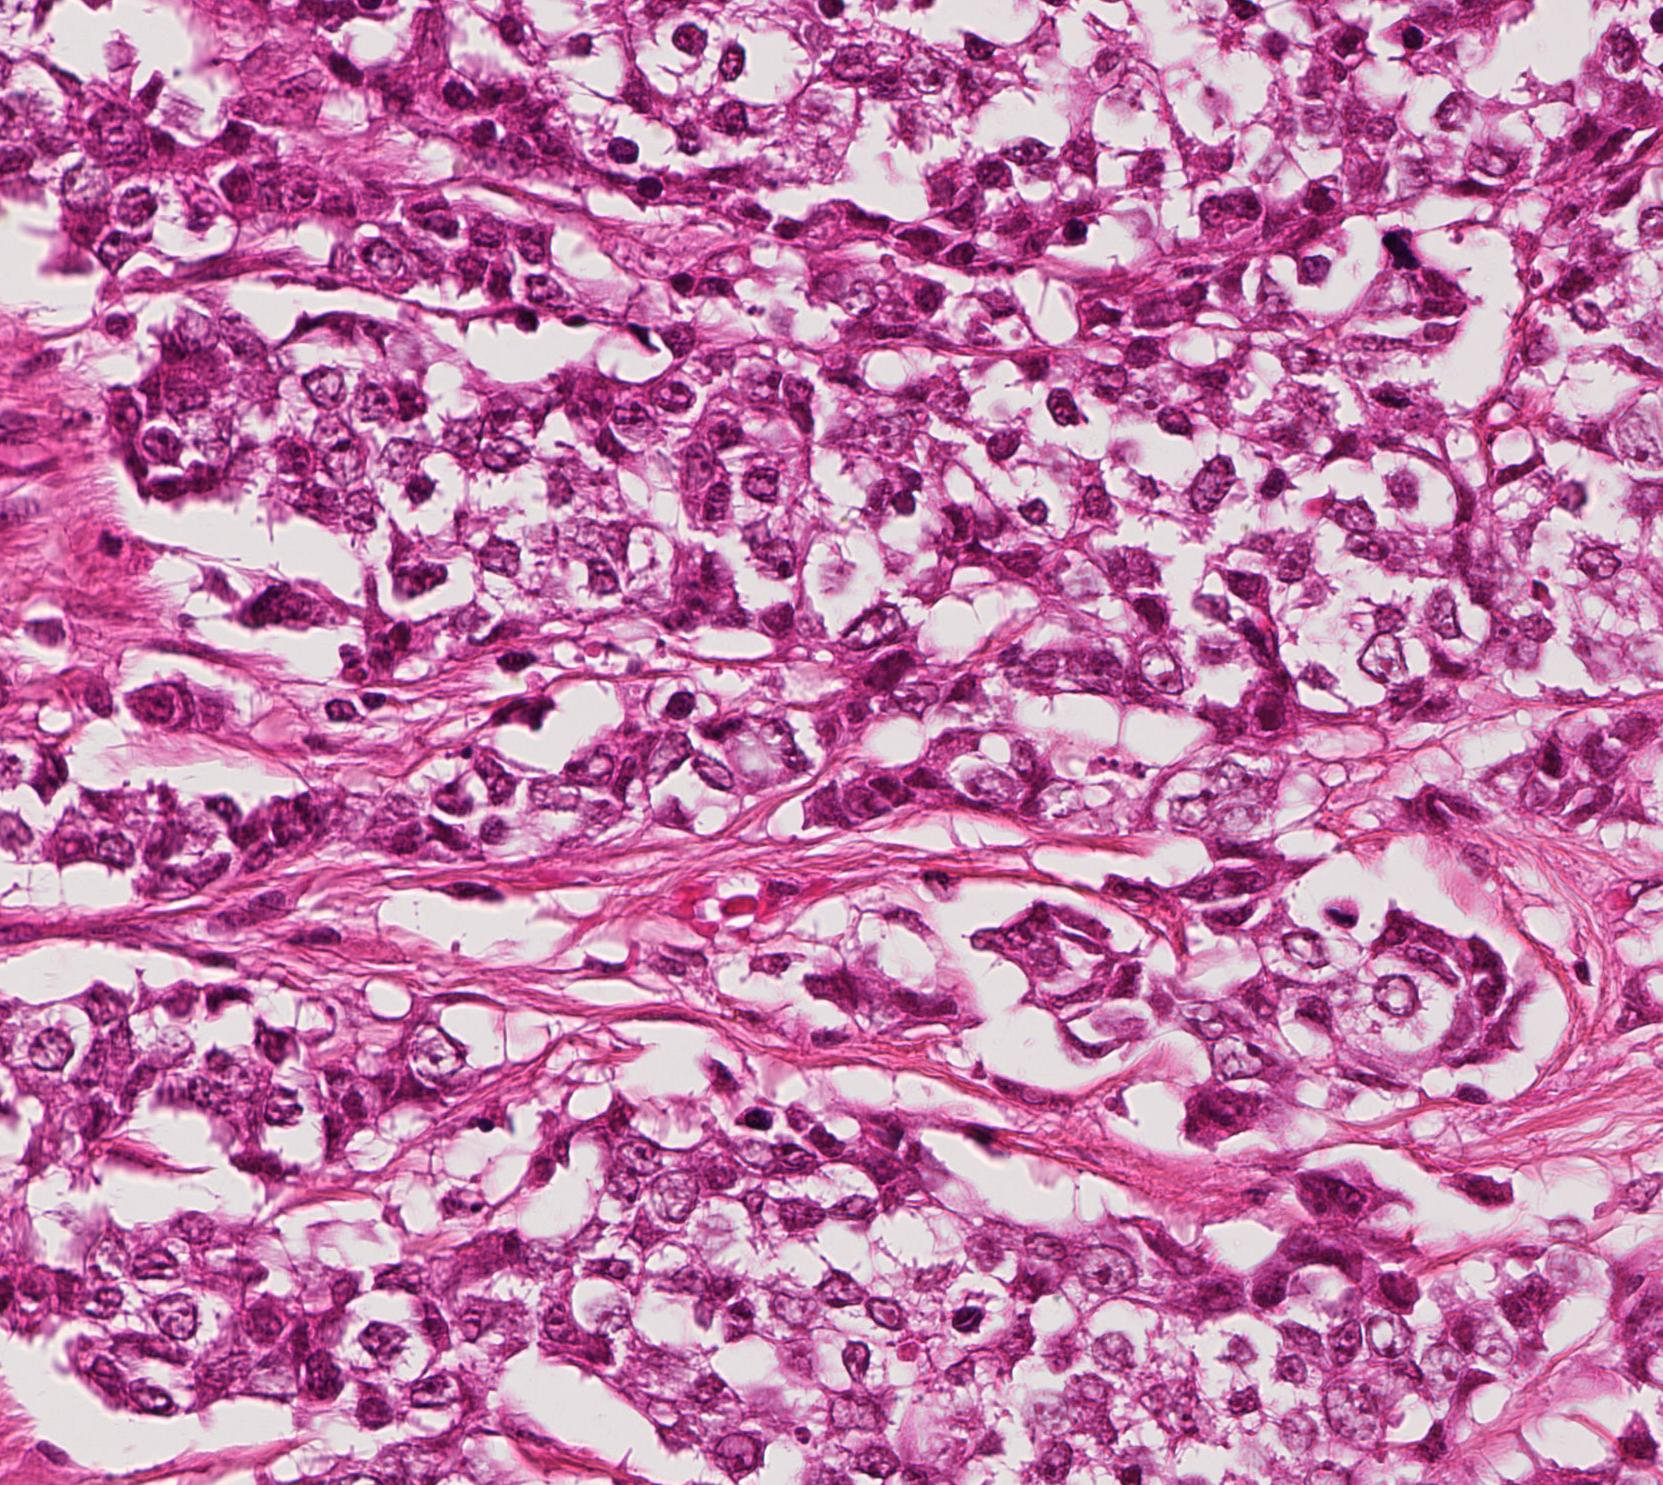mitosis: (1353, 363, 1414, 421)
